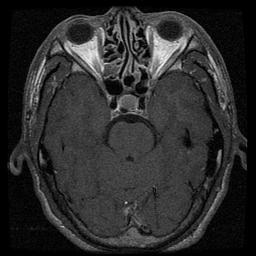Tumour-Pituitary: (103, 94, 155, 121)
